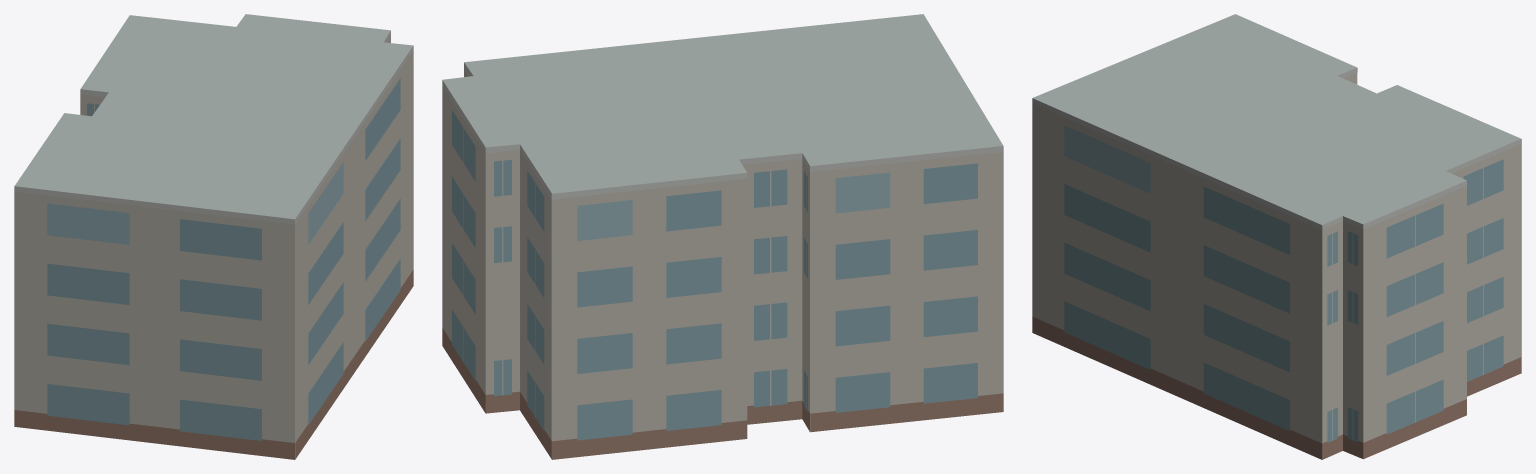
File: survey-upis-32993187.glb
3 views of the same model, side by side, from view 1: azimuth 30°, elevation 25°; view 2: azimuth 150°, elevation 25°; view 3: azimuth 270°, elevation 25° (orthographic). The views are drawn at different scales.
Parts seen in each view (by area): view 1: survey-upis-32993187.tmp; view 2: survey-upis-32993187.tmp; view 3: survey-upis-32993187.tmp.
Part boxes in pixels (box(x1,y1,x2,y2)): survey-upis-32993187.tmp: box(14, 14, 413, 459); survey-upis-32993187.tmp: box(442, 14, 1003, 459); survey-upis-32993187.tmp: box(1032, 14, 1521, 459).
Size of the model in its own units: 21.81 by 11.3 by 21.36.
